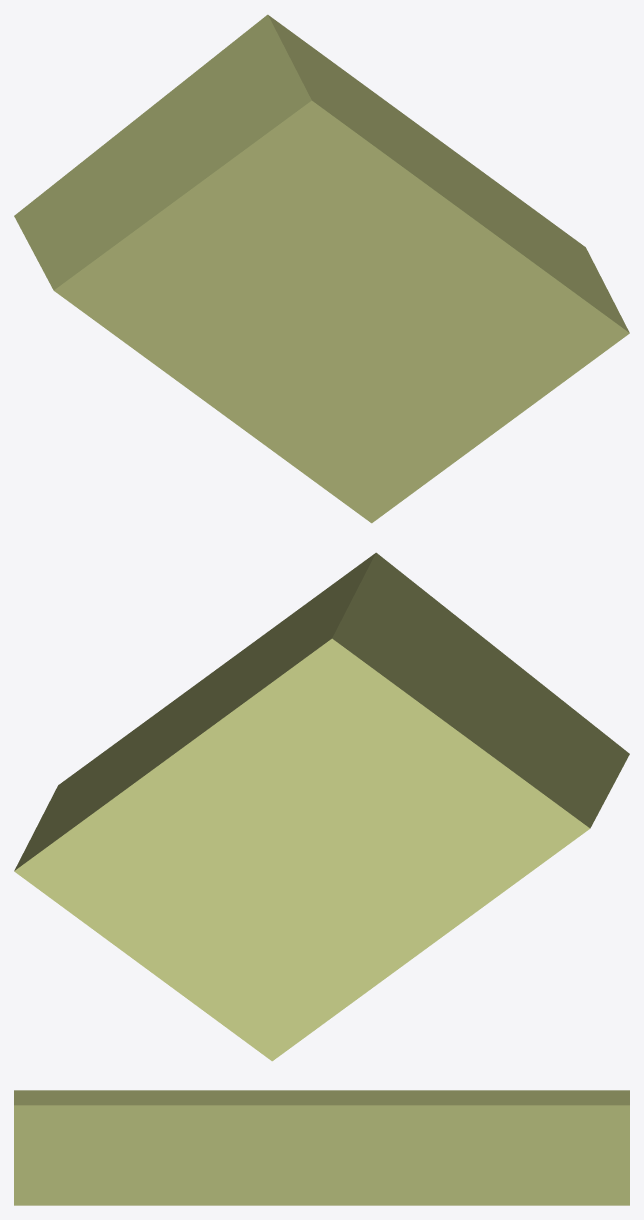
The picture shows the model from 3 angles, top to bottom: view 1: azimuth 30°, elevation 25°; view 2: azimuth 150°, elevation 25°; view 3: azimuth 270°, elevation 25°; orthographic projection. The views are drawn at different scales.
Parts seen in each view (by area): view 1: 0_1_1_3_2_2_3_0_1_1_0_0; view 2: 0_1_1_3_2_2_3_0_1_1_0_0; view 3: 0_1_1_3_2_2_3_0_1_1_0_0.
Boxes of the visible parts, left/top/right/bottom form: 0_1_1_3_2_2_3_0_1_1_0_0: left=14, top=14, right=629, bottom=523; 0_1_1_3_2_2_3_0_1_1_0_0: left=14, top=552, right=629, bottom=1061; 0_1_1_3_2_2_3_0_1_1_0_0: left=14, top=1090, right=629, bottom=1205.
Size of the model in its own units: 4.87 by 3.5 by 9.
